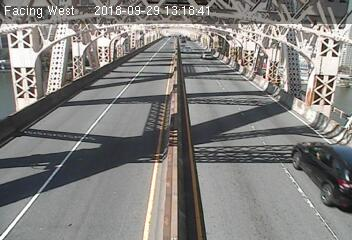car: (288, 137, 352, 210), (200, 47, 216, 61)
